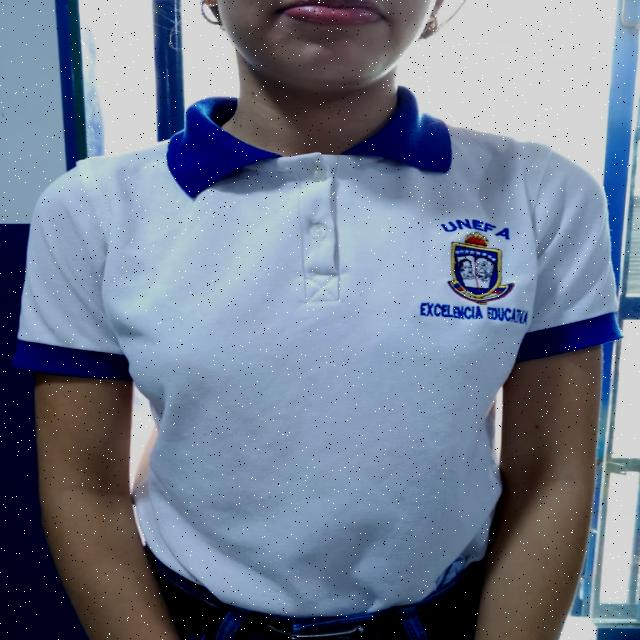uniforme_superior: (12, 84, 626, 618)
